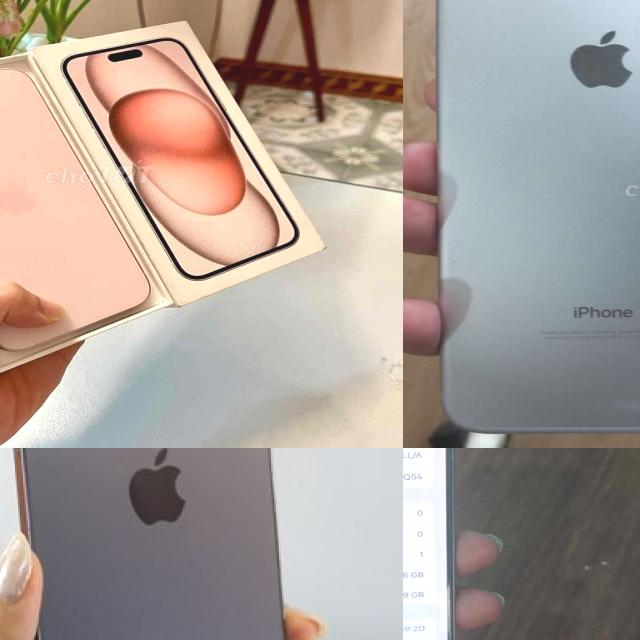scratch: (596, 400, 640, 426)
